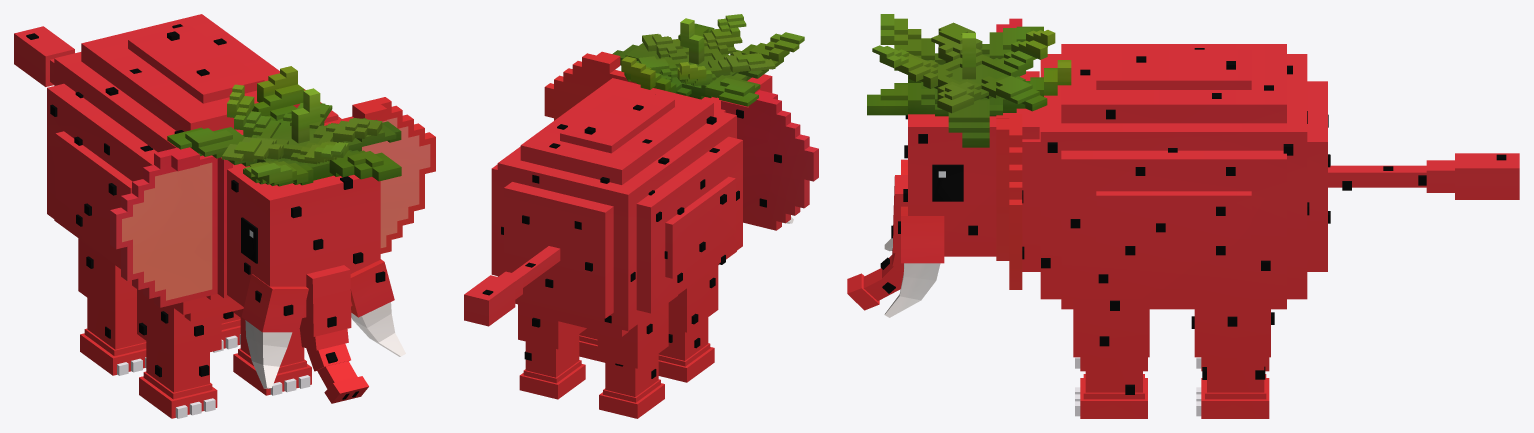
File: StrawberryElephant.fbx
3 renders of one model, left to right at view 1: azimuth 30°, elevation 25°; view 2: azimuth 150°, elevation 25°; view 3: azimuth 270°, elevation 25°, orthographic. The views are drawn at different scales.
Visible parts, largest first — view 1: Cocofanto_Elefanto.005; view 2: Cocofanto_Elefanto.005; view 3: Cocofanto_Elefanto.005.
Boxes of the visible parts, x1,y1,x2,y2 form: Cocofanto_Elefanto.005: (14,14,435,418); Cocofanto_Elefanto.005: (464,14,818,418); Cocofanto_Elefanto.005: (847,14,1519,418).
Size of the model in its own units: 2.4 by 2.47 by 4.23.
